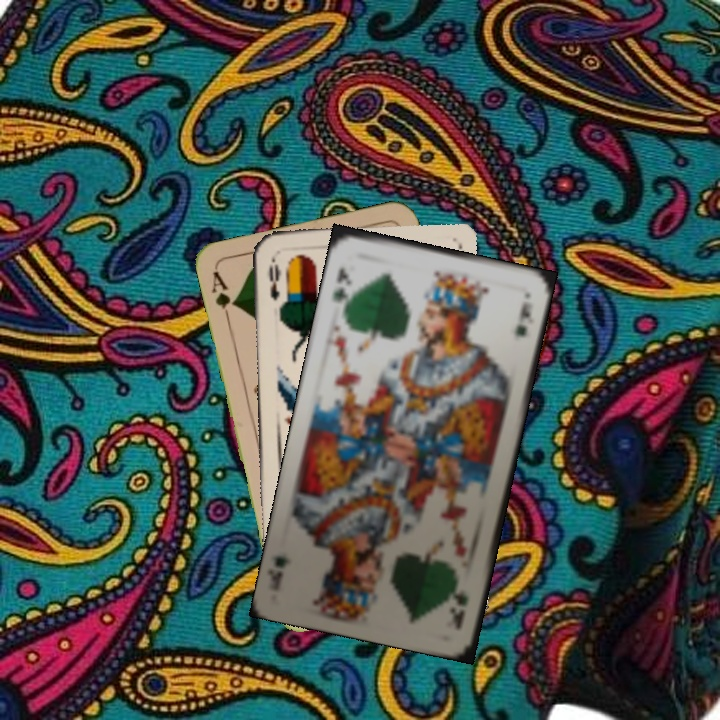EO: (265, 253, 283, 303)
GA: (207, 267, 239, 325)
GK: (329, 263, 355, 312), (447, 586, 471, 633)
